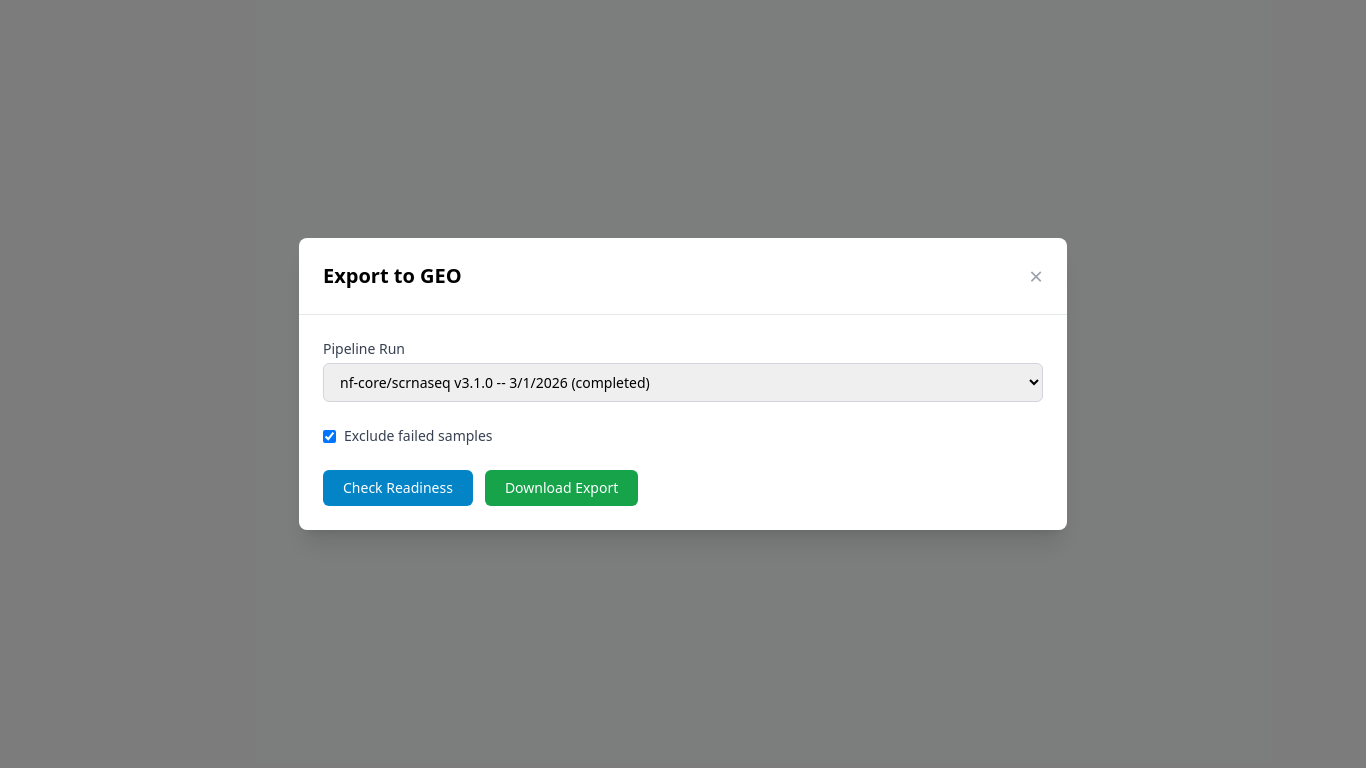
Test: GeoExportModal › shows error message when validation fails
Click the button "Check Readiness" at (398, 488), box [323,470,473,506]
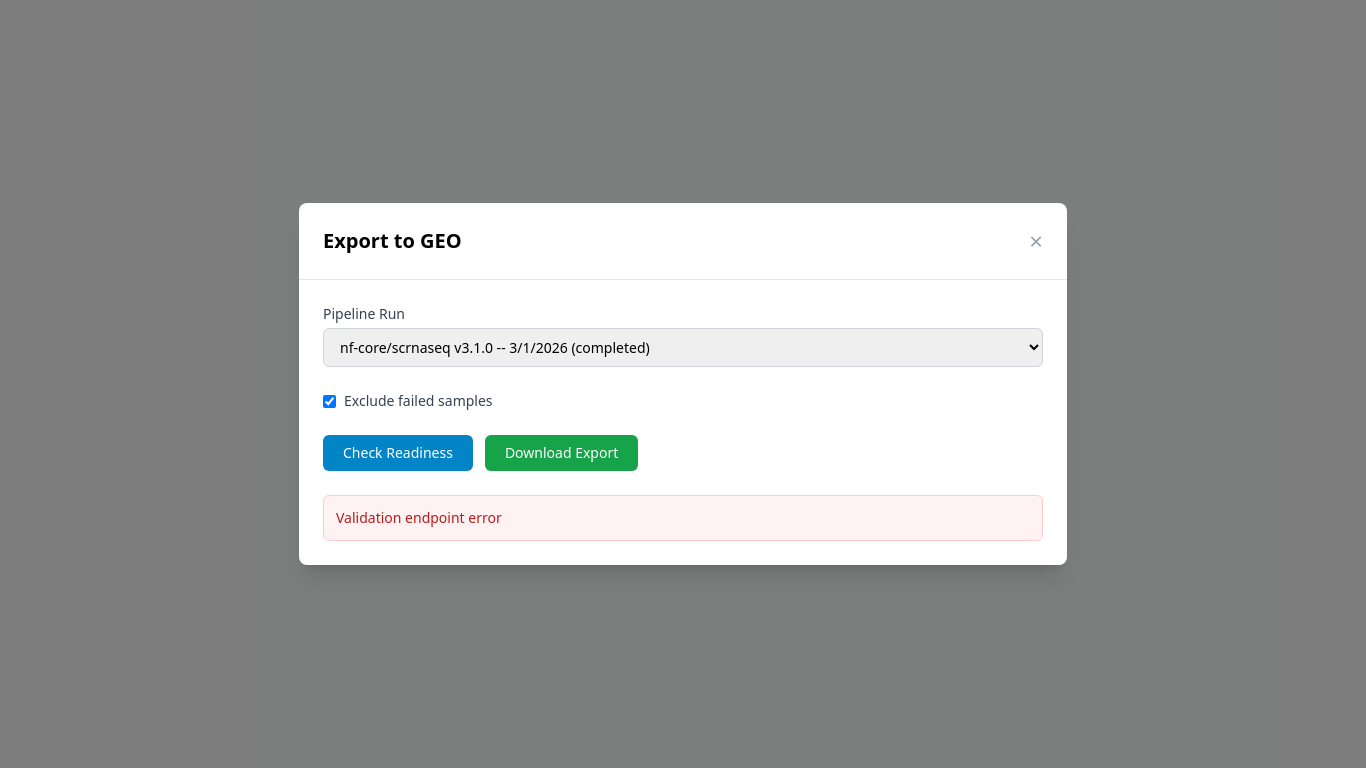
Check: the text "Validation endpoint error" is shown, box [323,495,1043,541]
